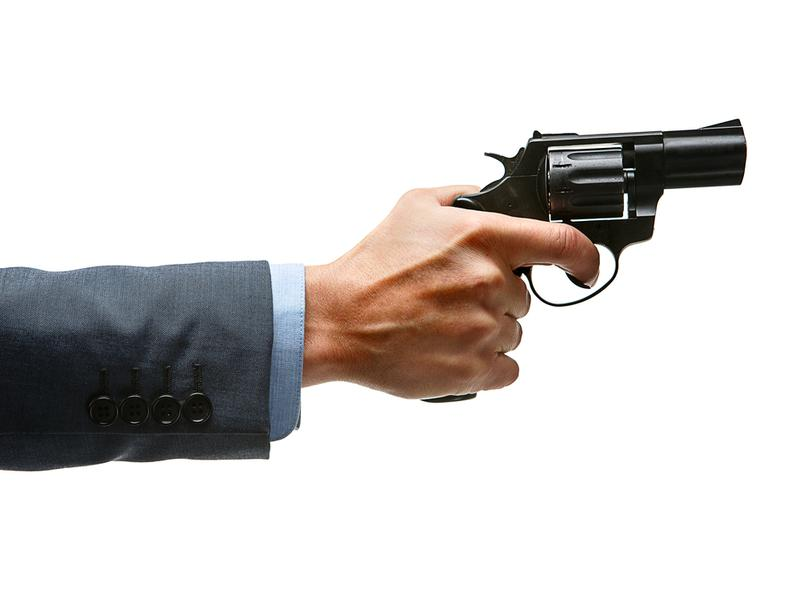Revolver: (445, 103, 754, 408)
